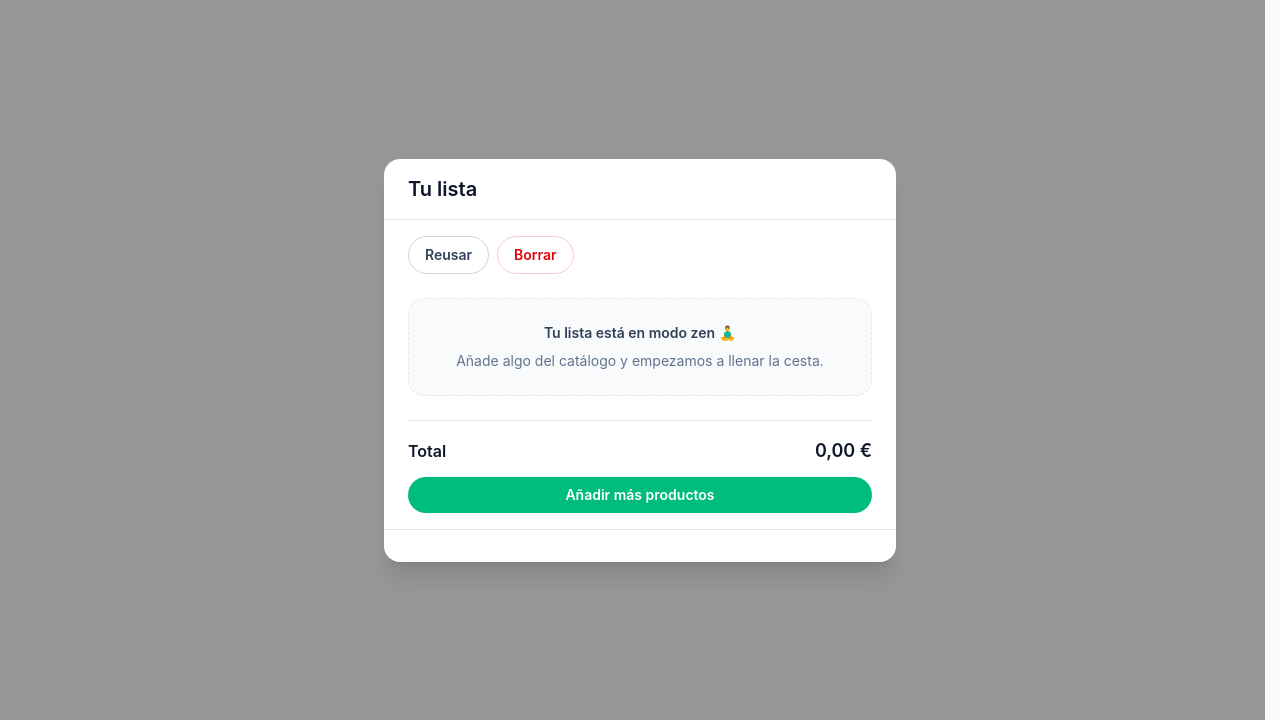
Test: ShoppingList › reusa la lista y adapta los items del payload
Step 1. Click the button "Reusar" → (449,254), box [408,236,489,274]
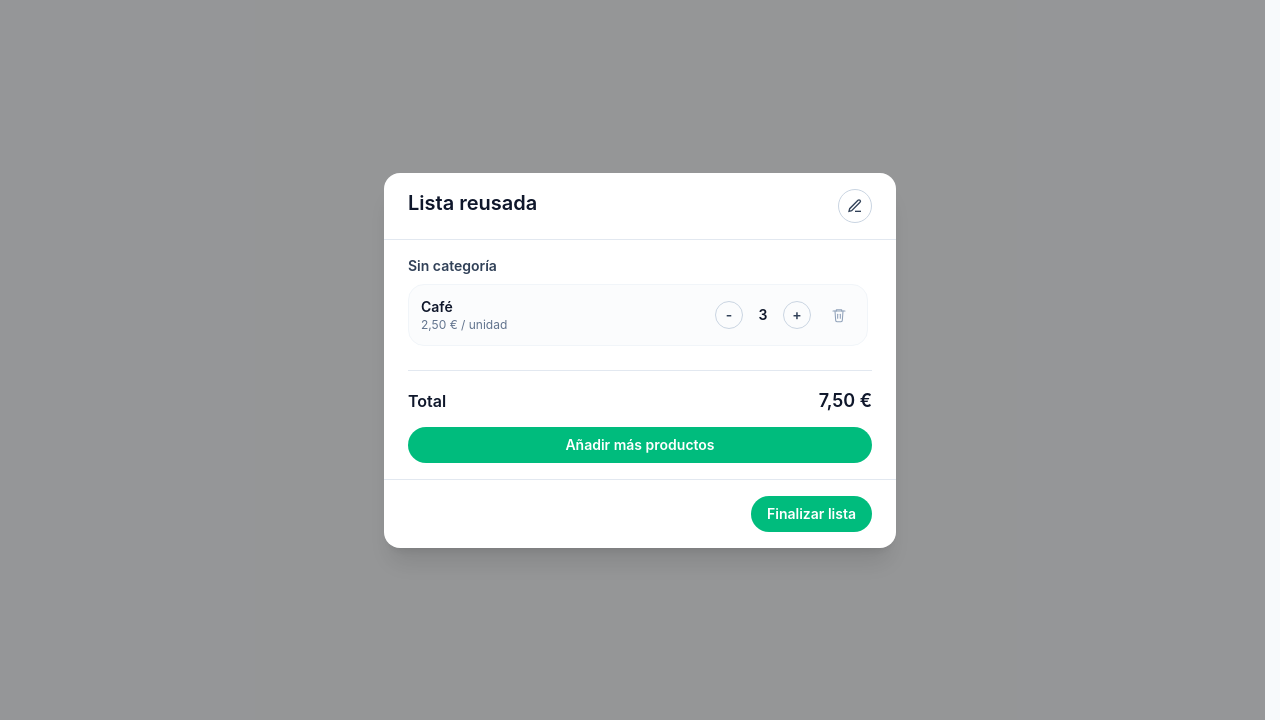
Check: the text "Café" is shown, box [421,298,453,314]
Check: the text with test id "quantity-item-9" reads "3", box [758,306,767,322]
Check: the heading "Lista reusada" is shown, box [408,188,537,216]
